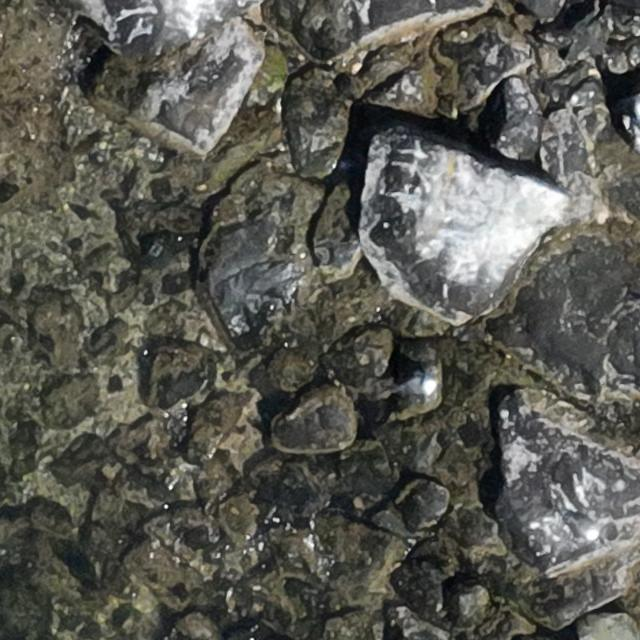umineko: (567, 511, 603, 541), (396, 375, 436, 396)
